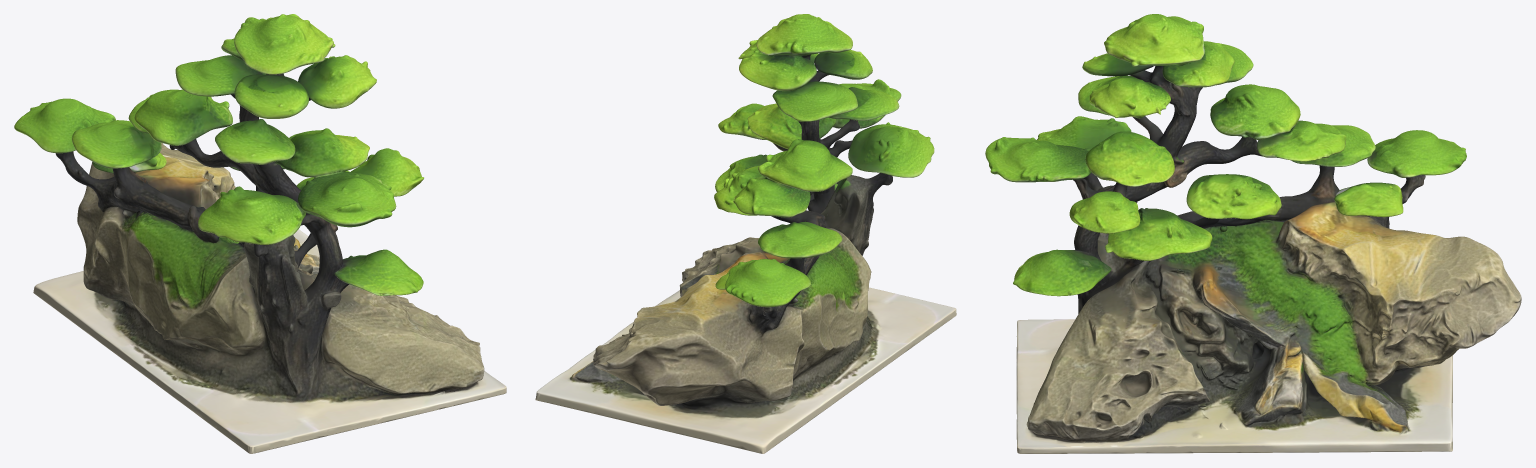
The model's file is Bonsaiver1-v9.glb.
3 views of the same model, side by side, from view 1: azimuth 30°, elevation 25°; view 2: azimuth 150°, elevation 25°; view 3: azimuth 270°, elevation 25° (orthographic). The views are drawn at different scales.
Visible parts, largest first — view 1: tripo_node_449b44b6-9445-4884-bc75-65e8c67e351d; view 2: tripo_node_449b44b6-9445-4884-bc75-65e8c67e351d; view 3: tripo_node_449b44b6-9445-4884-bc75-65e8c67e351d.
Boxes of the visible parts, x1,y1,x2,y2 form: tripo_node_449b44b6-9445-4884-bc75-65e8c67e351d: (14, 14, 506, 453); tripo_node_449b44b6-9445-4884-bc75-65e8c67e351d: (535, 14, 956, 453); tripo_node_449b44b6-9445-4884-bc75-65e8c67e351d: (985, 14, 1521, 453).
Bounding box in the file's own units: 0.5919 × 0.731 × 0.9801.
1 material, 1 textured.
